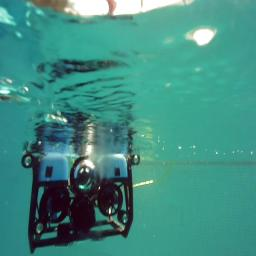front: (21, 154, 141, 251)
